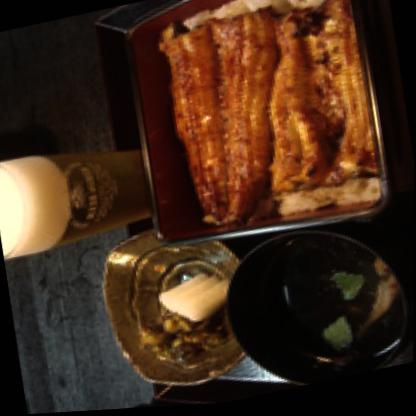eel: (154, 0, 381, 237)
